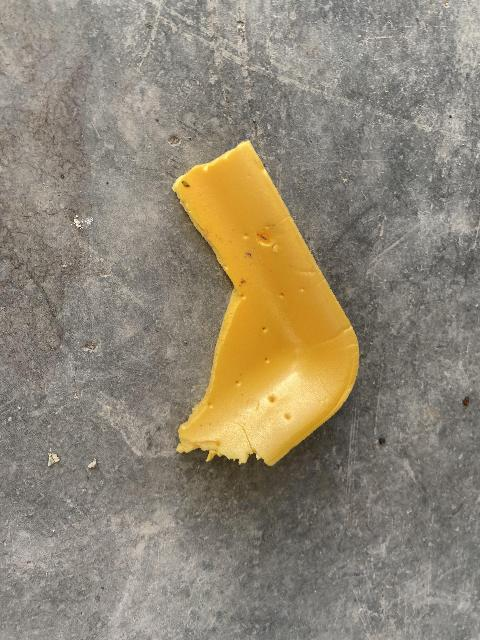Plastik: (171, 133, 360, 478)
